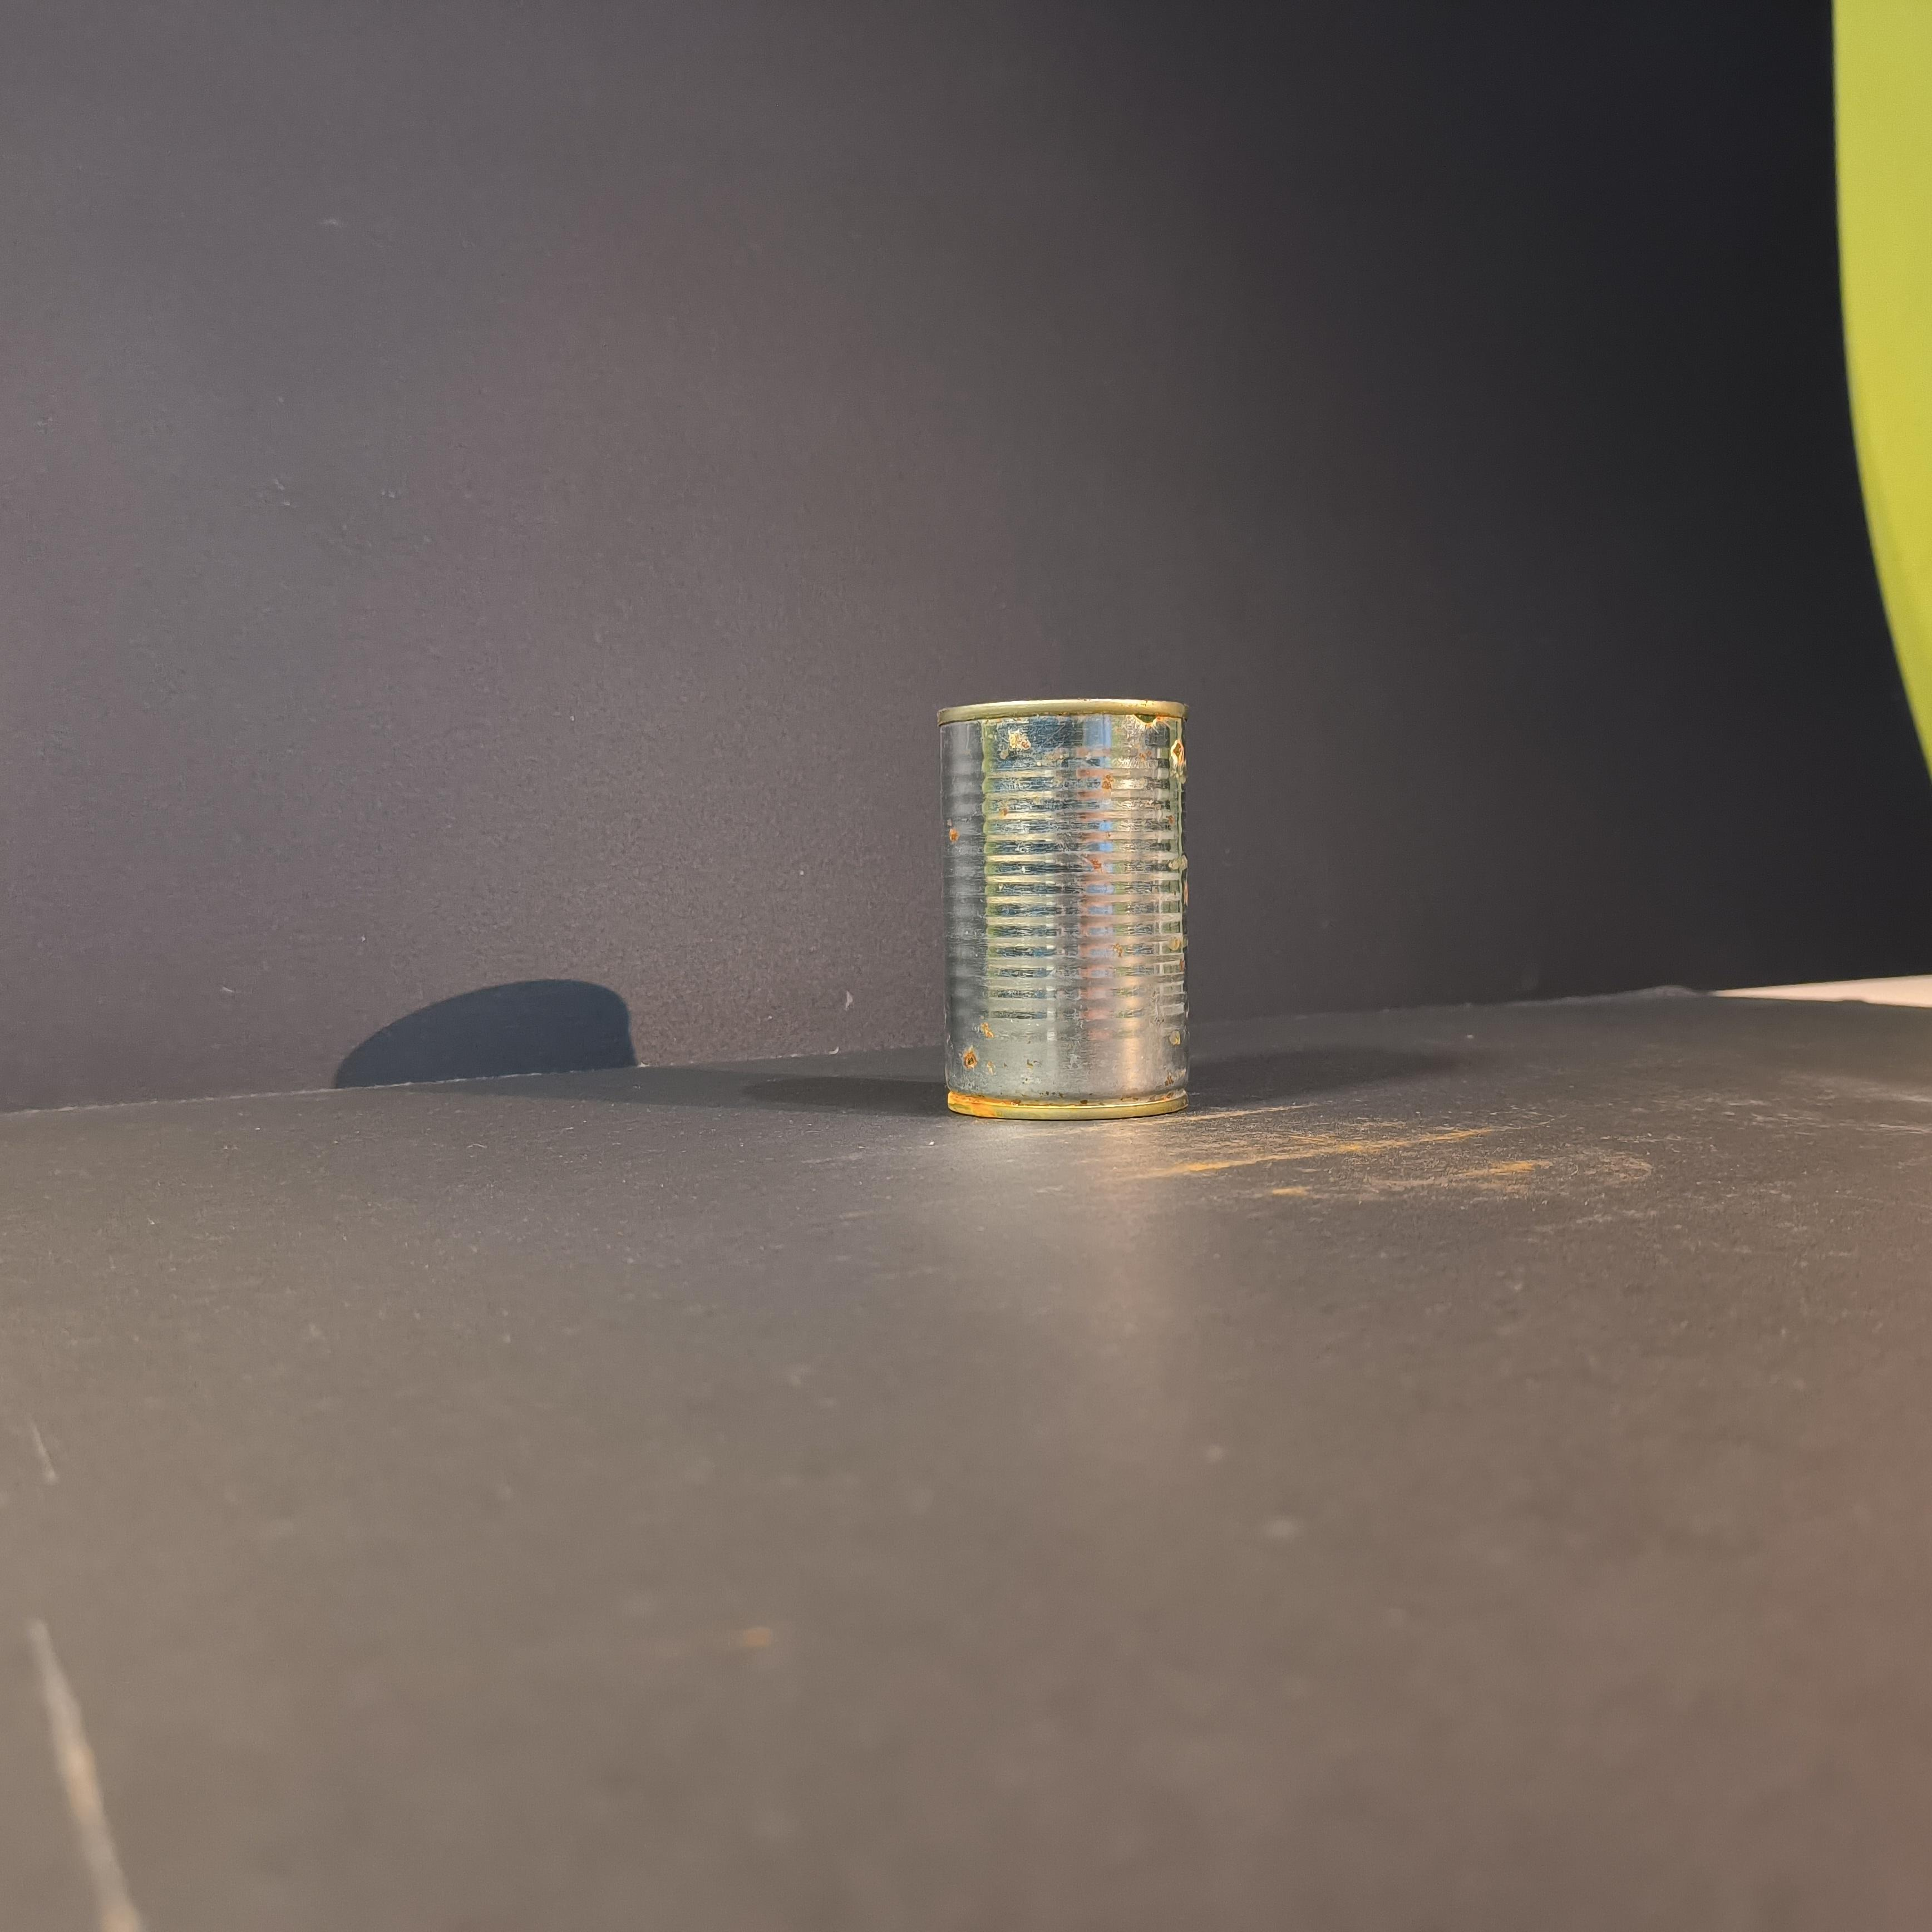Rusted: (922, 676, 1221, 1152)
